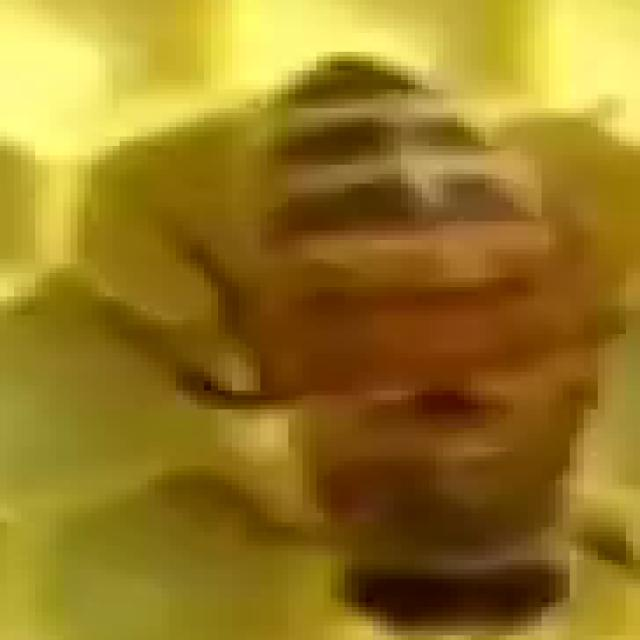honeybee: (168, 56, 618, 640)
